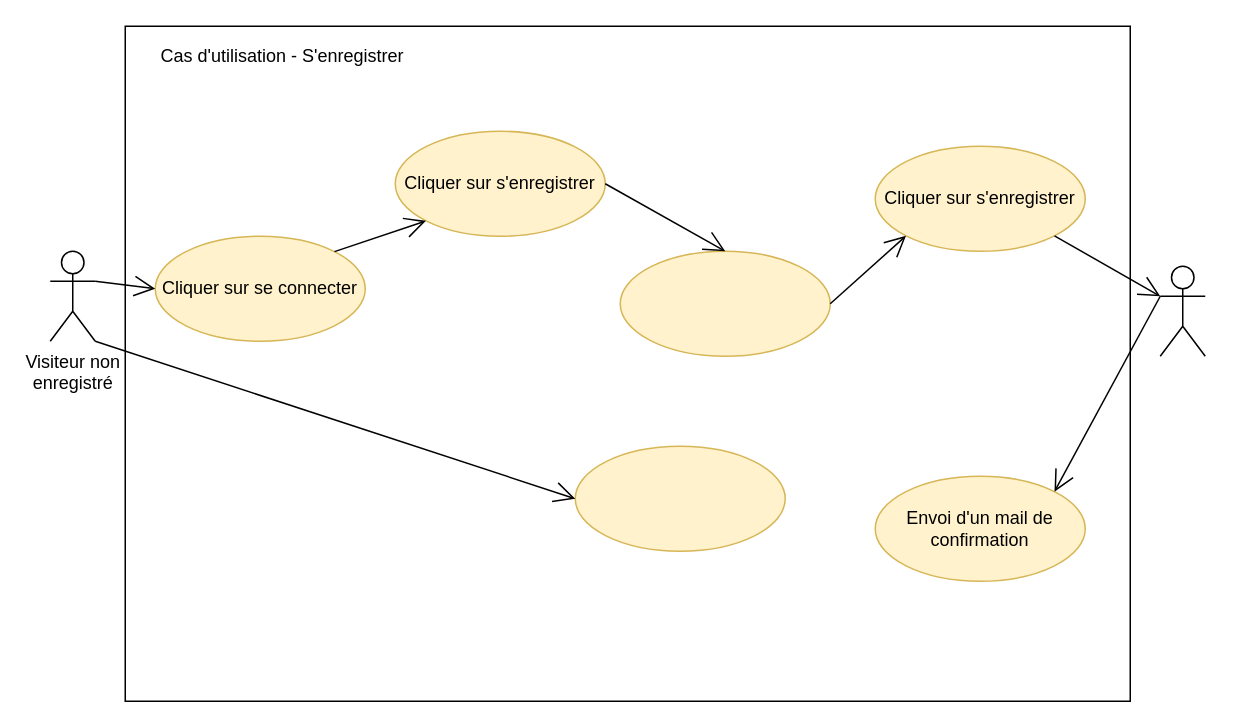
Some shapes in this 1244 by 728 pixel diagram are drawn without their labels. Here are the shapes that lost their labels. From the top down, the centre of each, then its label:
At (724,303): "Remplir la totalité du formulaire".
At (1182,310): "Système".
At (679,498): "Valider son adresse mail".
